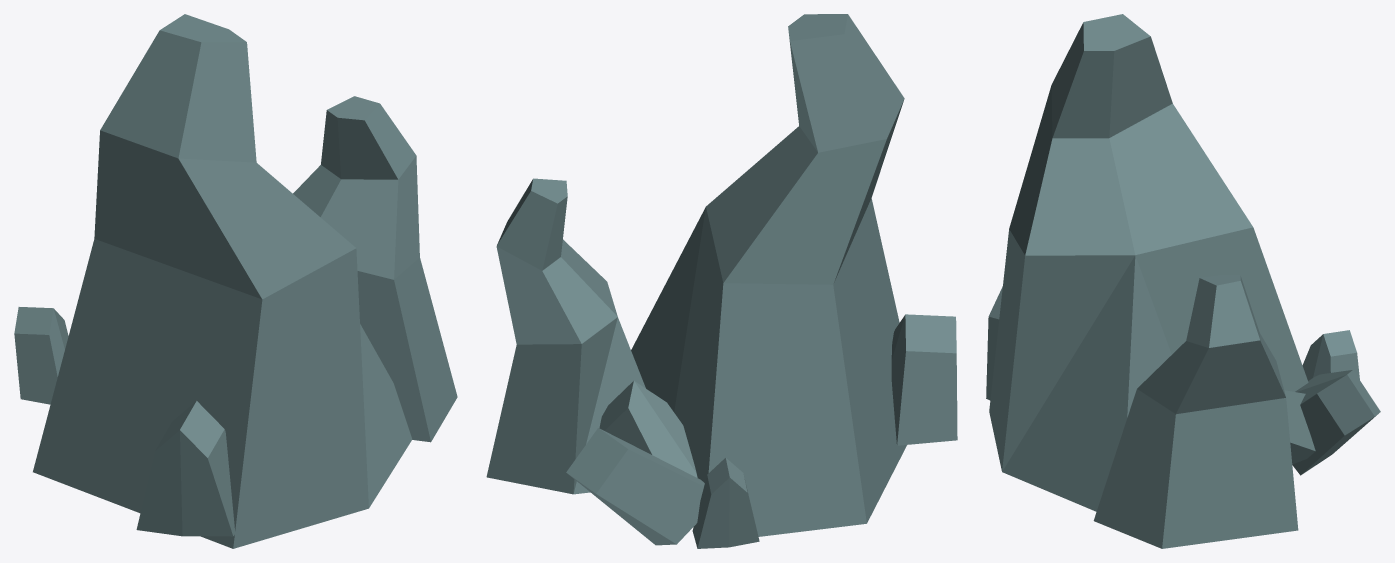
Rendered from brigesRock_Type3_01_mesh_001.fbx.
3 renders of one model, left to right at view 1: azimuth 30°, elevation 25°; view 2: azimuth 150°, elevation 25°; view 3: azimuth 270°, elevation 25°, orthographic. The views are drawn at different scales.
Parts seen in each view (by area): view 1: Rock Type3 01 mesh.001; view 2: Rock Type3 01 mesh.001; view 3: Rock Type3 01 mesh.001.
Part boxes in pixels (<box>): Rock Type3 01 mesh.001: <box>14,14,457,548</box>; Rock Type3 01 mesh.001: <box>486,14,957,548</box>; Rock Type3 01 mesh.001: <box>986,14,1380,548</box>.
Size of the model in its own units: 168 by 195 by 167.
